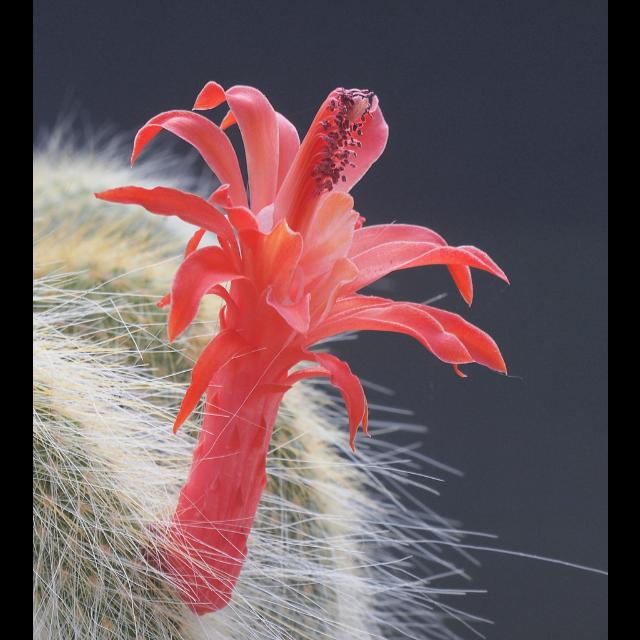Flower: (93, 84, 509, 616)
